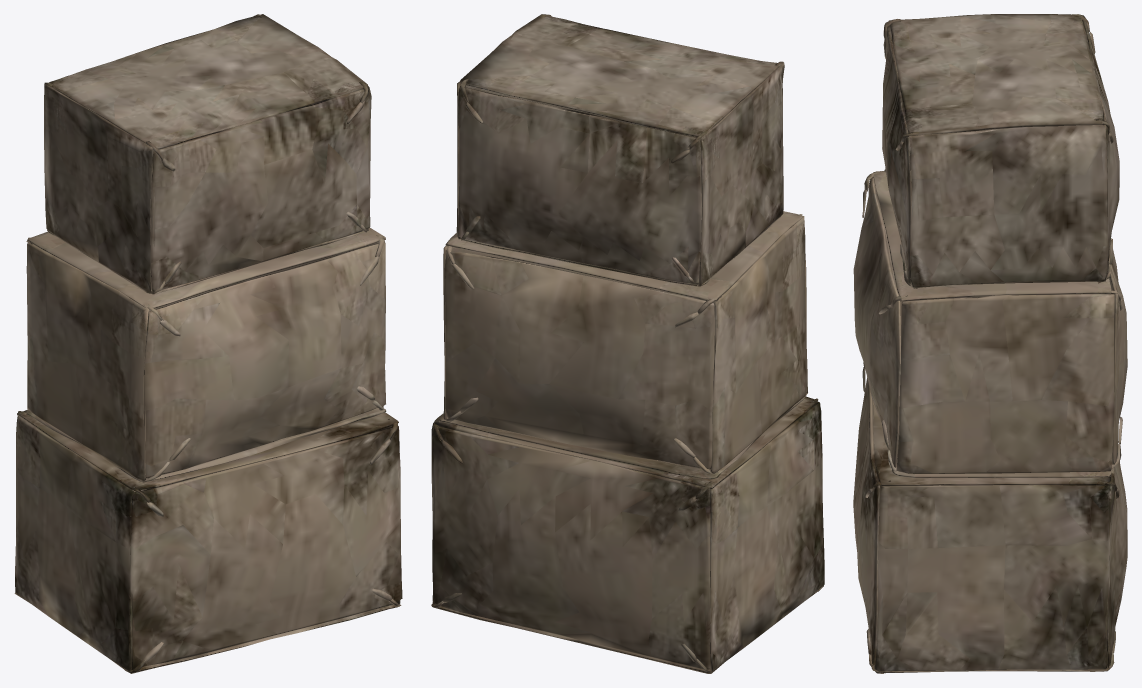
Rendered from boxes.glb.
3 renders of one model, left to right at view 1: azimuth 30°, elevation 25°; view 2: azimuth 150°, elevation 25°; view 3: azimuth 270°, elevation 25°, orthographic. The views are drawn at different scales.
Size of the model in its own units: 0.556 by 0.9946 by 0.4591.
1 material, 1 textured.
